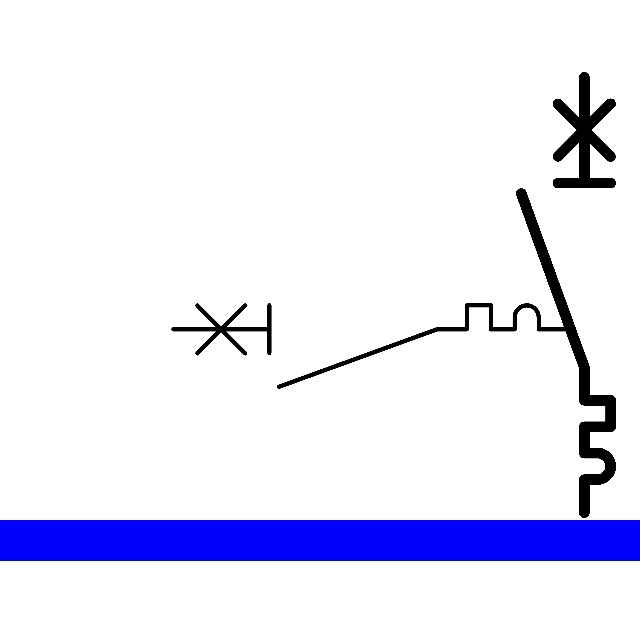interruptor_termomagnetico: (510, 66, 622, 524), (163, 295, 579, 397)
